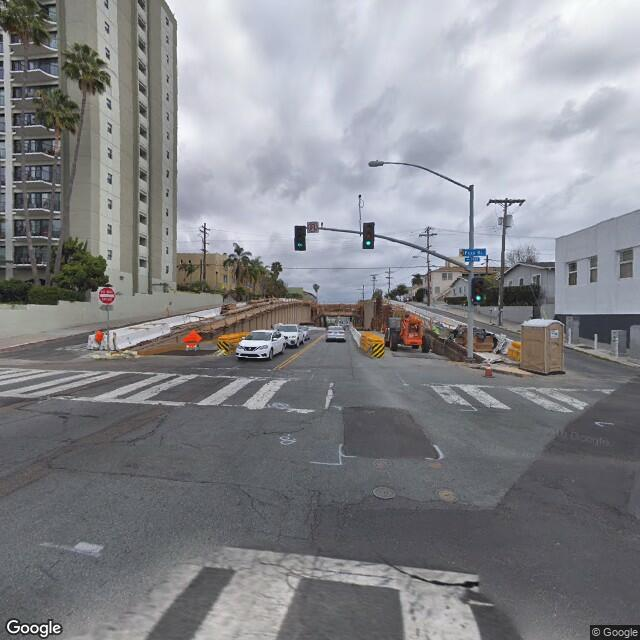light: (365, 159, 386, 168)
window: (616, 249, 636, 287)
